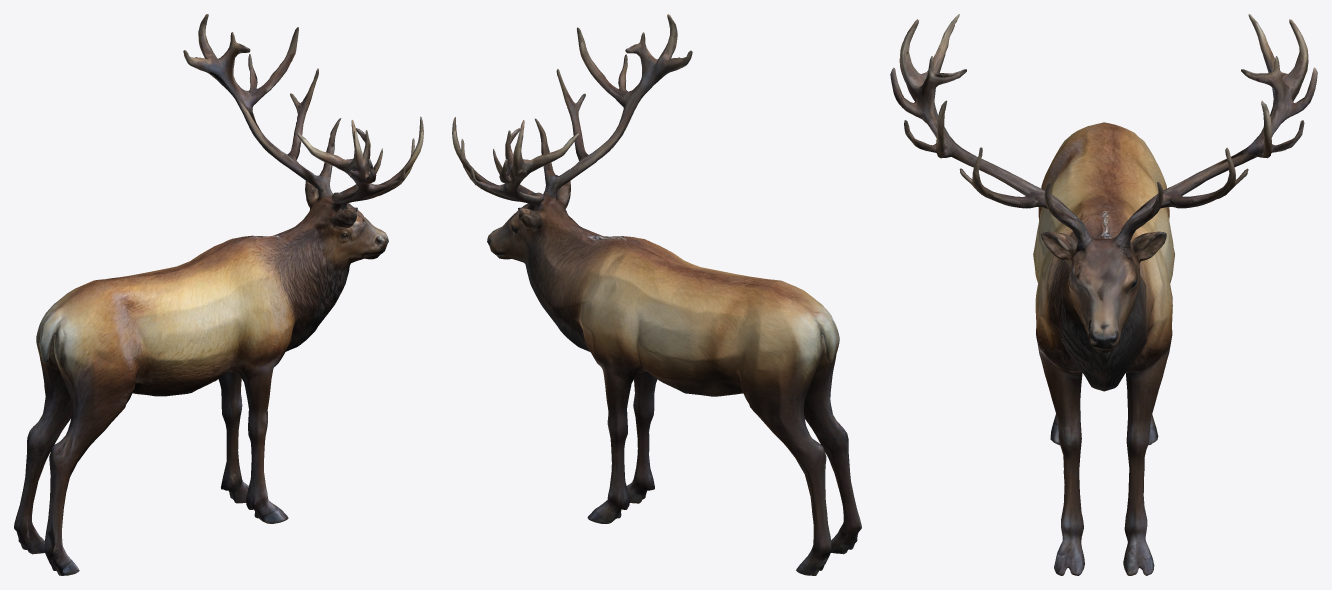
The model's file is elk.glb.
The picture shows the model from 3 angles, left to right: view 1: azimuth 30°, elevation 25°; view 2: azimuth 150°, elevation 25°; view 3: azimuth 270°, elevation 25°; orthographic projection. The views are drawn at different scales.
Bounding box in the file's own units: 1.71 × 2.01 × 1.38.
Materials: 1 (1 with a texture image).
